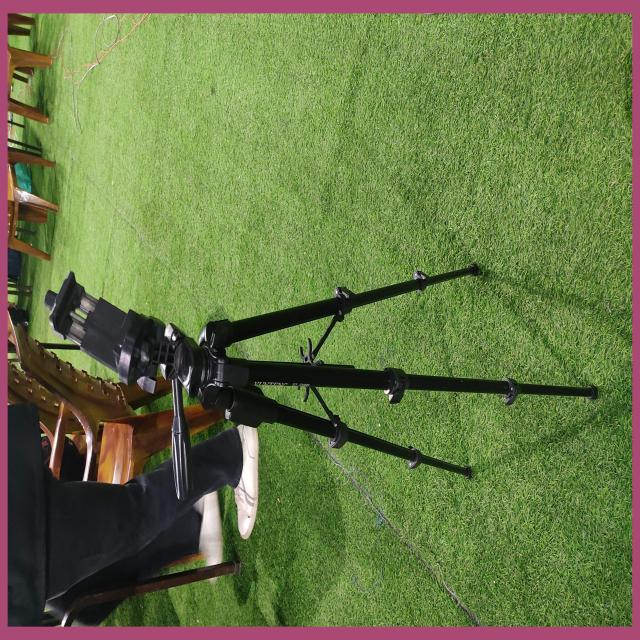Camer Stand: (42, 260, 598, 541)
